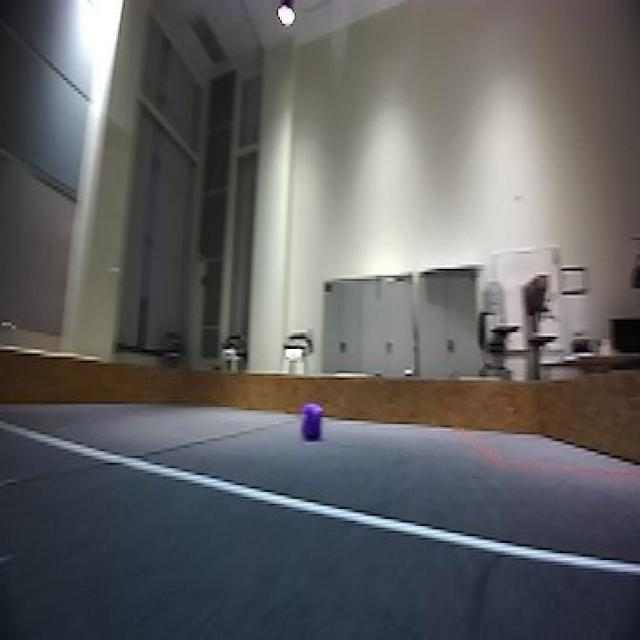frc_cube: (300, 400, 325, 443)
